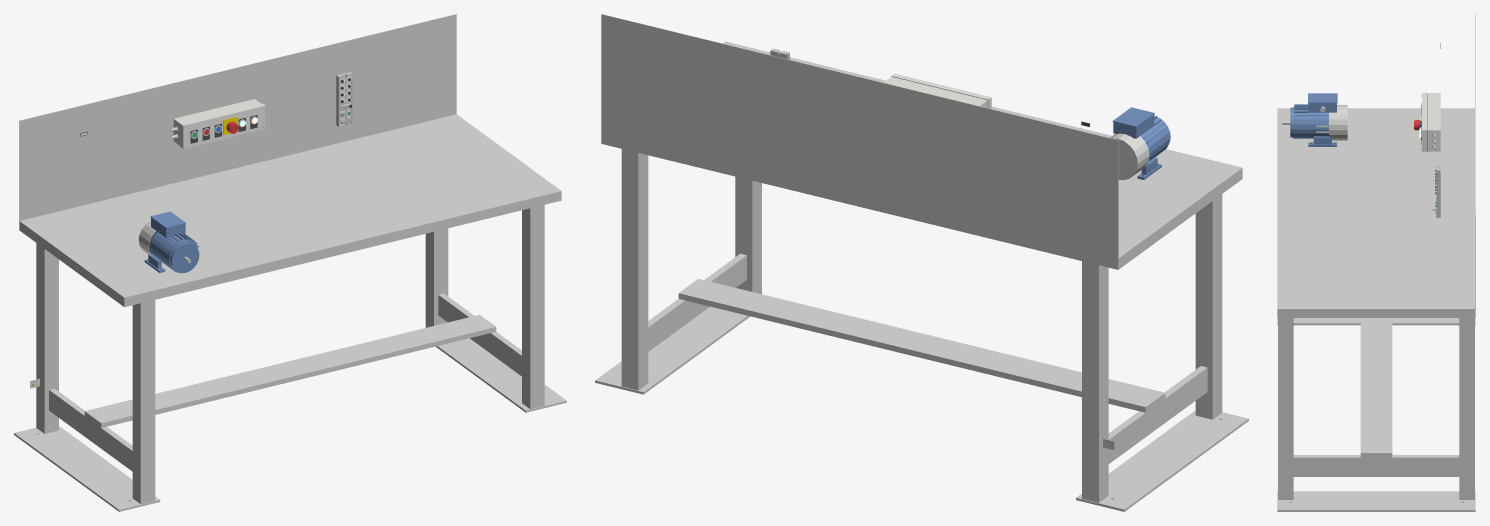
Rendered from mc-motor-1.glb.
3 renders of one model, left to right at view 1: azimuth 30°, elevation 25°; view 2: azimuth 150°, elevation 25°; view 3: azimuth 270°, elevation 25°, orthographic. The views are drawn at different scales.
Visible parts, largest first — view 1: bench-1.body, bench-1.backboard, m1.body, pbs-1.lid-1, io-1.body, pbs-1.body; view 2: bench-1.body, bench-1.backboard, m1.body, pbs-1.body; view 3: bench-1.body, m1.body, pbs-1.body, pbs-1.lid-1, io-1.body, bench-1.backboard.
Part boxes in pixels (x1,y1,x2,y2): bench-1.body: [14, 114, 566, 511]; bench-1.backboard: [19, 14, 456, 220]; m1.body: [138, 211, 199, 273]; pbs-1.lid-1: [180, 103, 265, 148]; io-1.body: [336, 72, 352, 126]; pbs-1.body: [170, 99, 264, 145]; bench-1.body: [595, 41, 1248, 511]; bench-1.backboard: [601, 14, 1118, 258]; m1.body: [1110, 107, 1170, 179]; pbs-1.body: [883, 76, 987, 107]; bench-1.body: [1277, 108, 1475, 511]; m1.body: [1290, 93, 1347, 146]; pbs-1.body: [1427, 93, 1440, 151]; pbs-1.lid-1: [1420, 92, 1427, 152]; io-1.body: [1432, 164, 1440, 217]; bench-1.backboard: [1475, 14, 1475, 308].
Size of what is drawn, in the model's own units: 1.87 by 1.25 by 0.762.
